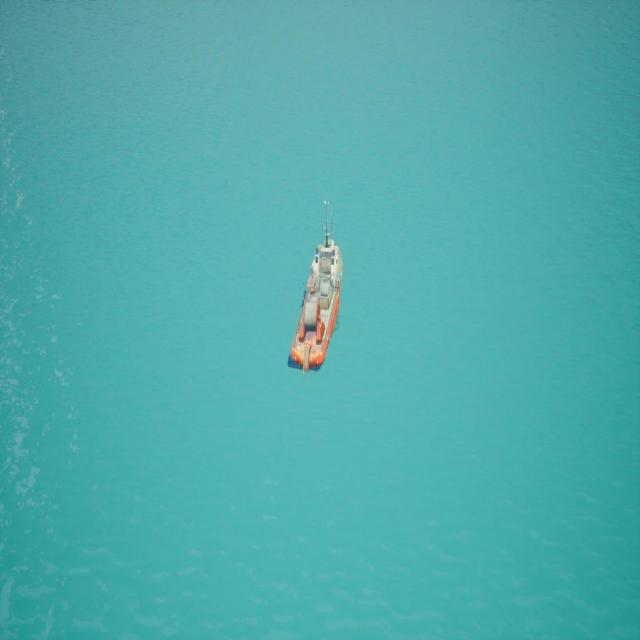tug boat: (279, 185, 360, 393)
